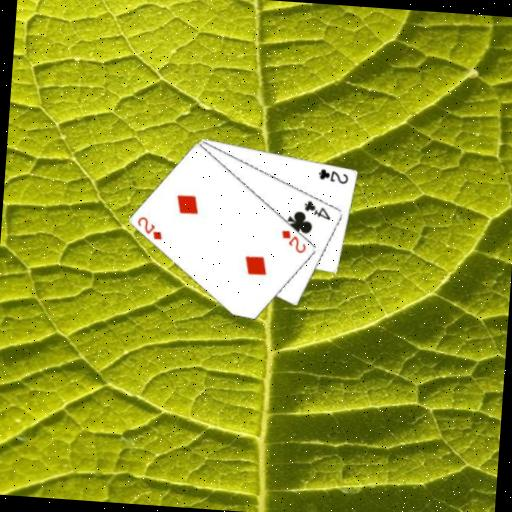2C: (316, 166, 351, 186)
2D: (278, 226, 310, 255), (134, 213, 166, 242)
4C: (301, 197, 334, 221)
